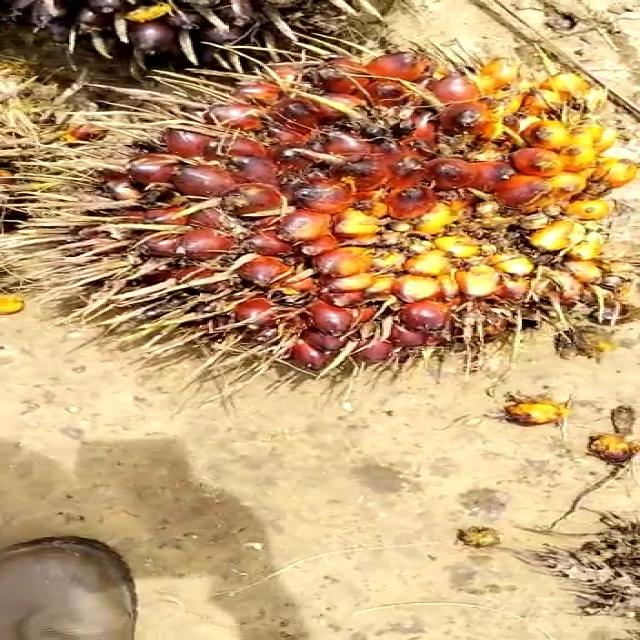palm oil: (37, 38, 640, 369)
